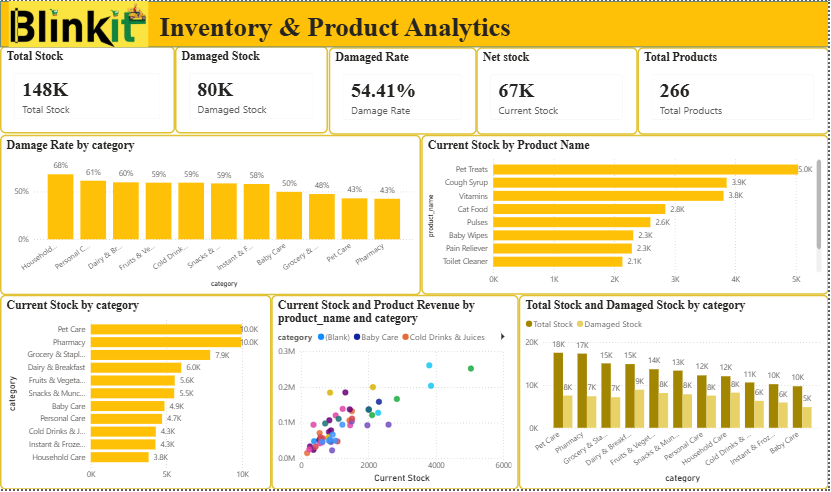

The dashboard page shown, as its layout file describes it:
{"tool":"powerbi","page":{"name":"Inventory & Product Analytics","canvas":[1325,781],"ordinal":3},"visuals":[{"type":"cardVisual","title":"Total  Stock","fields":{"Data":["DateTable.Total Stock"]},"box":[0,72.5,280,140],"z":0},{"type":"cardVisual","title":"Damaged Stock","fields":{"Data":["DateTable.Damaged Stock"]},"box":[280,72.5,245,140],"z":1000},{"type":"cardVisual","title":"Damaged Rate","fields":{"Data":["DateTable.Damage Rate"]},"box":[525,73.3,236.7,140],"z":2000},{"type":"cardVisual","title":"Net stock","fields":{"Data":["DateTable.Current Stock"]},"box":[761.7,73.3,258.3,140],"z":3000},{"type":"cardVisual","title":"Total Products","fields":{"Data":["DateTable.Total Products"]},"box":[1020,74,306,140],"z":4000},{"type":"shape","box":[0,0,1326,74],"z":5000},{"type":"image","box":[1.7,0,246.7,73.3],"z":6000},{"type":"textbox","box":[250,12.5,640,60],"z":7000},{"type":"clusteredColumnChart","fields":{"Y":["DateTable.Damage Rate"],"Category":["products.category"]},"box":[0,213.3,673.3,256.7],"z":8000},{"type":"clusteredBarChart","title":"Net Stock by Category","fields":{"Category":["products.category"],"Y":["DateTable.Current Stock"]},"box":[0,470,434,312],"z":9000},{"type":"clusteredBarChart","title":"Net Stock by Product","fields":{"Y":["DateTable.Current Stock"],"Category":["products.product_name"]},"box":[674,214,652,256],"z":10000},{"type":"clusteredColumnChart","fields":{"Y":["DateTable.Total Stock","DateTable.Damaged Stock"],"Category":["products.category"]},"box":[830,470,496,312],"z":11000},{"type":"scatterChart","fields":{"X":["DateTable.Current Stock"],"Y":["products.Product Revenue"],"Series":["products.category"],"Category":["products.product_name"]},"box":[434,470,396,312],"z":12000}]}

Visuals, with their boxes in screenshot pixels (x1, y1, x2, y2), scaled from the page's 1325x781 canvas onto the 831x492 screenshot:
"Total  Stock" cardVisual: locate(0, 46, 176, 134)
"Damaged Stock" cardVisual: locate(176, 46, 329, 134)
"Damaged Rate" cardVisual: locate(329, 46, 478, 134)
"Net stock" cardVisual: locate(478, 46, 640, 134)
"Total Products" cardVisual: locate(640, 47, 830, 135)
shape: locate(0, 0, 830, 47)
image: locate(1, 0, 156, 46)
textbox: locate(157, 8, 558, 46)
clusteredColumnChart - DateTable.Damage Rate x products.category: locate(0, 134, 422, 296)
"Net Stock by Category" clusteredBarChart: locate(0, 296, 272, 491)
"Net Stock by Product" clusteredBarChart: locate(423, 135, 830, 296)
clusteredColumnChart - DateTable.Total Stock x DateTable.Damaged Stock: locate(521, 296, 830, 491)
scatterChart - DateTable.Current Stock x products.Product Revenue: locate(272, 296, 521, 491)
